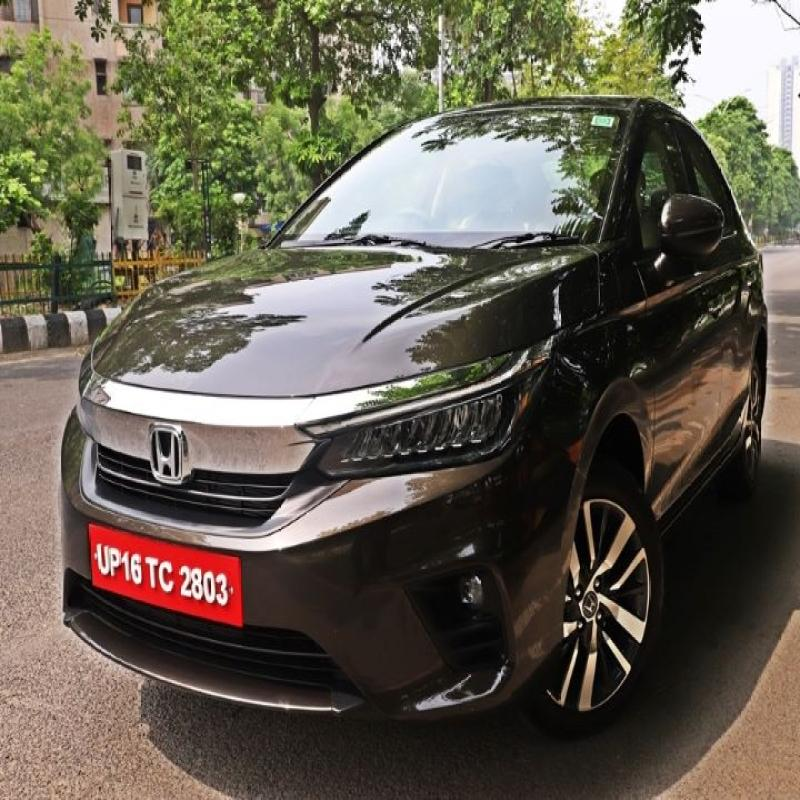car: (60, 77, 750, 737)
